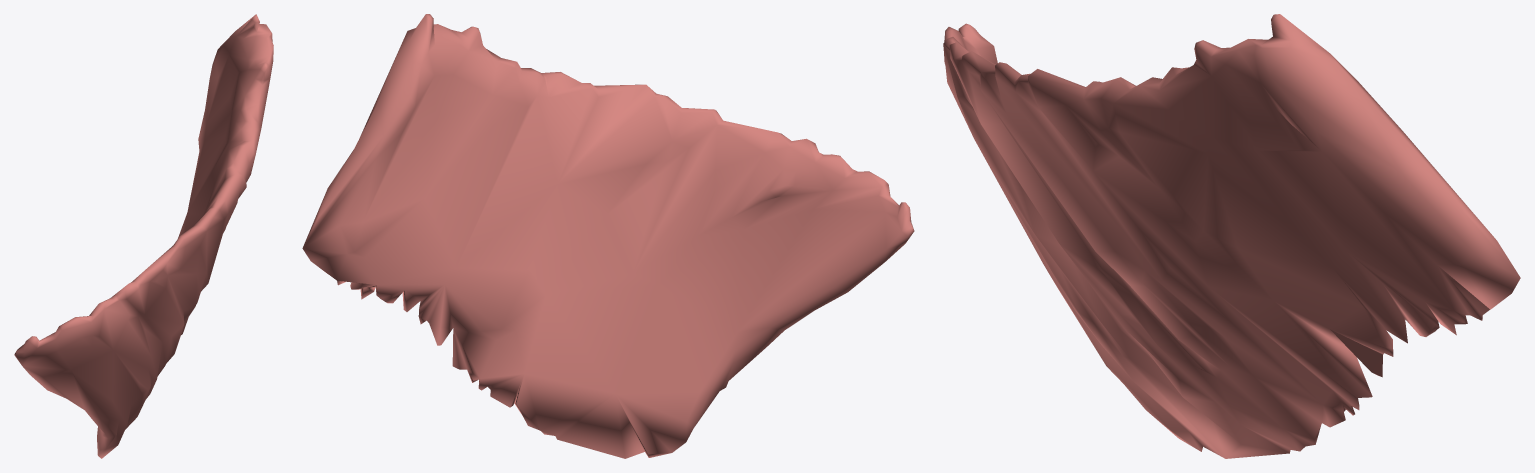
3 views of the same model, side by side, from view 1: azimuth 30°, elevation 25°; view 2: azimuth 150°, elevation 25°; view 3: azimuth 270°, elevation 25° (orthographic). The views are drawn at different scales.
Parts seen in each view (by area): view 1: ZA_9a927687dd0a6a3a; view 2: ZA_9a927687dd0a6a3a; view 3: ZA_9a927687dd0a6a3a.
Boxes of the visible parts, x1,y1,x2,y2 form: ZA_9a927687dd0a6a3a: (14, 14, 273, 458); ZA_9a927687dd0a6a3a: (302, 14, 914, 458); ZA_9a927687dd0a6a3a: (943, 14, 1520, 458).
Bounding box in the file's own units: 0.0306 × 0.0295 × 0.0273.
